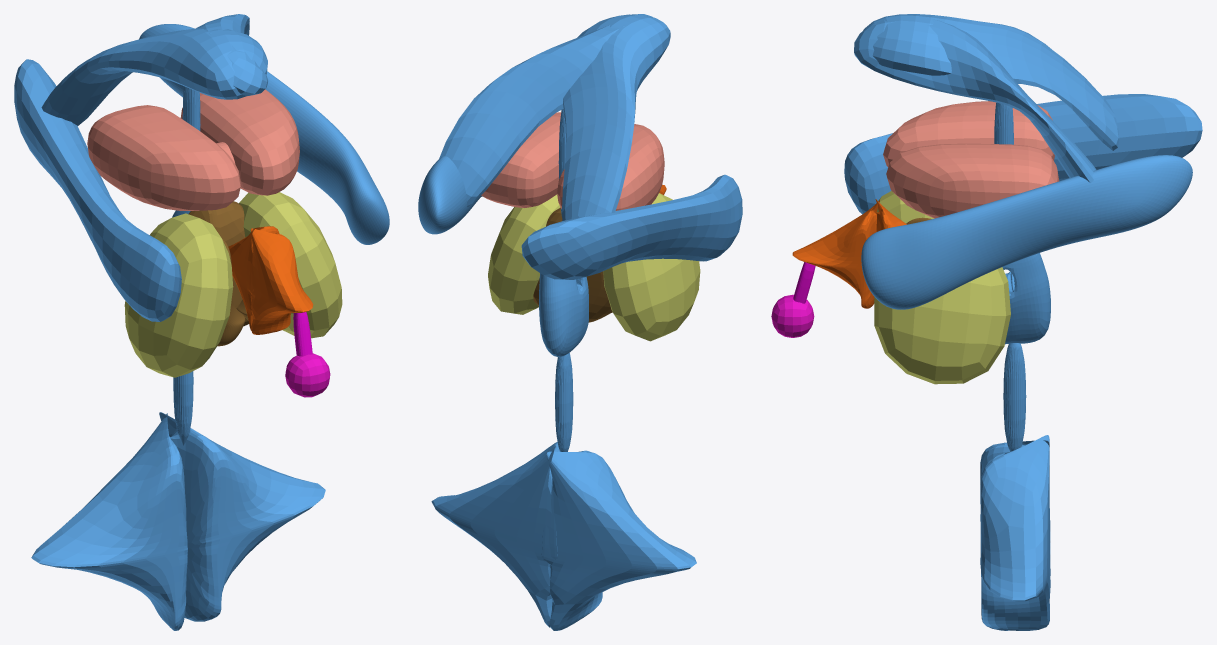
File: internal-brain.fbx
The picture shows the model from 3 angles, left to right: view 1: azimuth 30°, elevation 25°; view 2: azimuth 150°, elevation 25°; view 3: azimuth 270°, elevation 25°; orthographic projection. The views are drawn at different scales.
Parts seen in each view (by area): view 1: Ventricles, Thalamus, Left_Amygdala, Right_amygdala, Infundibulum, Pituitary_gland, Hypothalamus; view 2: Ventricles, Thalamus, Left_Amygdala, Right_amygdala, Hypothalamus; view 3: Ventricles, Thalamus, Right_amygdala, Infundibulum, Pituitary_gland, Left_Amygdala.
Part boxes in pixels (box(x1,y1,x2,y2)): Ventricles: box(14, 14, 389, 630); Thalamus: box(87, 89, 299, 210); Left_Amygdala: box(124, 213, 233, 377); Right_amygdala: box(239, 192, 342, 338); Infundibulum: box(228, 226, 313, 334); Pituitary_gland: box(285, 312, 330, 397); Hypothalamus: box(188, 201, 248, 346); Ventricles: box(418, 14, 742, 630); Thalamus: box(481, 112, 664, 210); Left_Amygdala: box(603, 193, 700, 341); Right_amygdala: box(488, 194, 560, 314); Hypothalamus: box(533, 207, 612, 322); Ventricles: box(844, 14, 1202, 630); Thalamus: box(883, 101, 1059, 218); Right_amygdala: box(874, 267, 1010, 384); Infundibulum: box(792, 199, 906, 308); Pituitary_gland: box(771, 262, 815, 337); Left_Amygdala: box(877, 191, 933, 223).
Bounding box in the file's own units: 1436 × 3003 × 1940.
